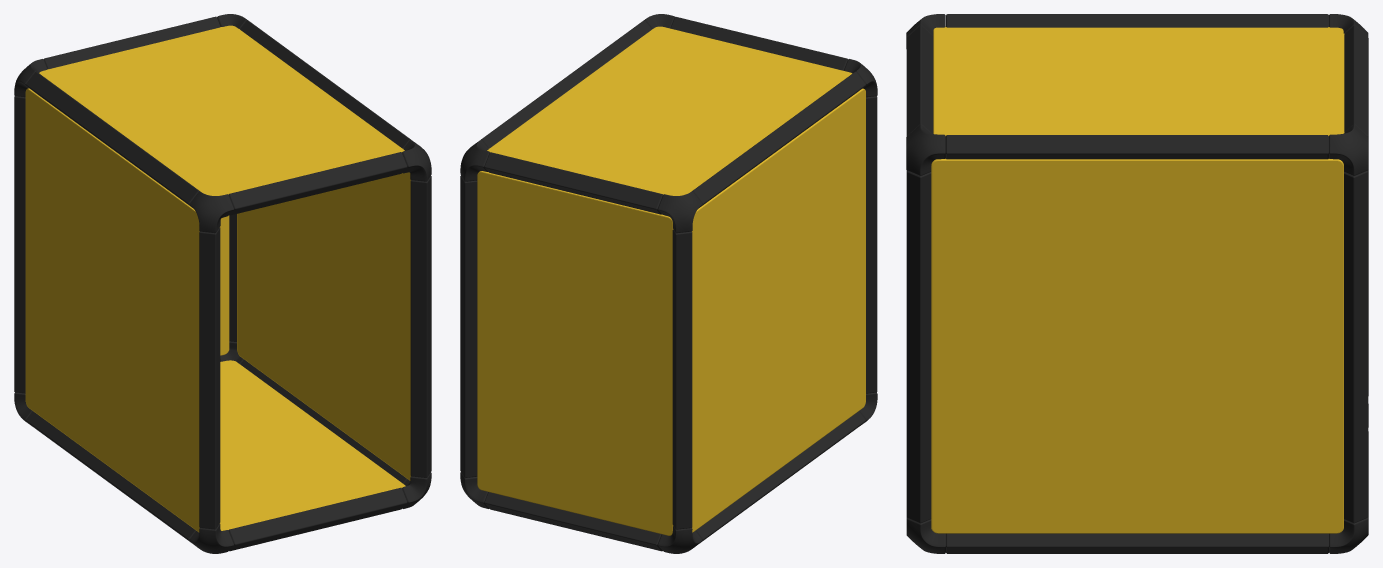
The picture shows the model from 3 angles, left to right: view 1: azimuth 30°, elevation 25°; view 2: azimuth 150°, elevation 25°; view 3: azimuth 270°, elevation 25°; orthographic projection. The views are drawn at different scales.
Parts seen in each view (by area): view 1: 229x374x374; view 2: 229x374x374; view 3: 229x374x374.
Boxes of the visible parts, left/top/right/bottom form: 229x374x374: left=14, top=14, right=431, bottom=553; 229x374x374: left=460, top=14, right=877, bottom=553; 229x374x374: left=906, top=14, right=1368, bottom=553.
Size of the model in its own units: 0.3067 by 0.4516 by 0.4513.
